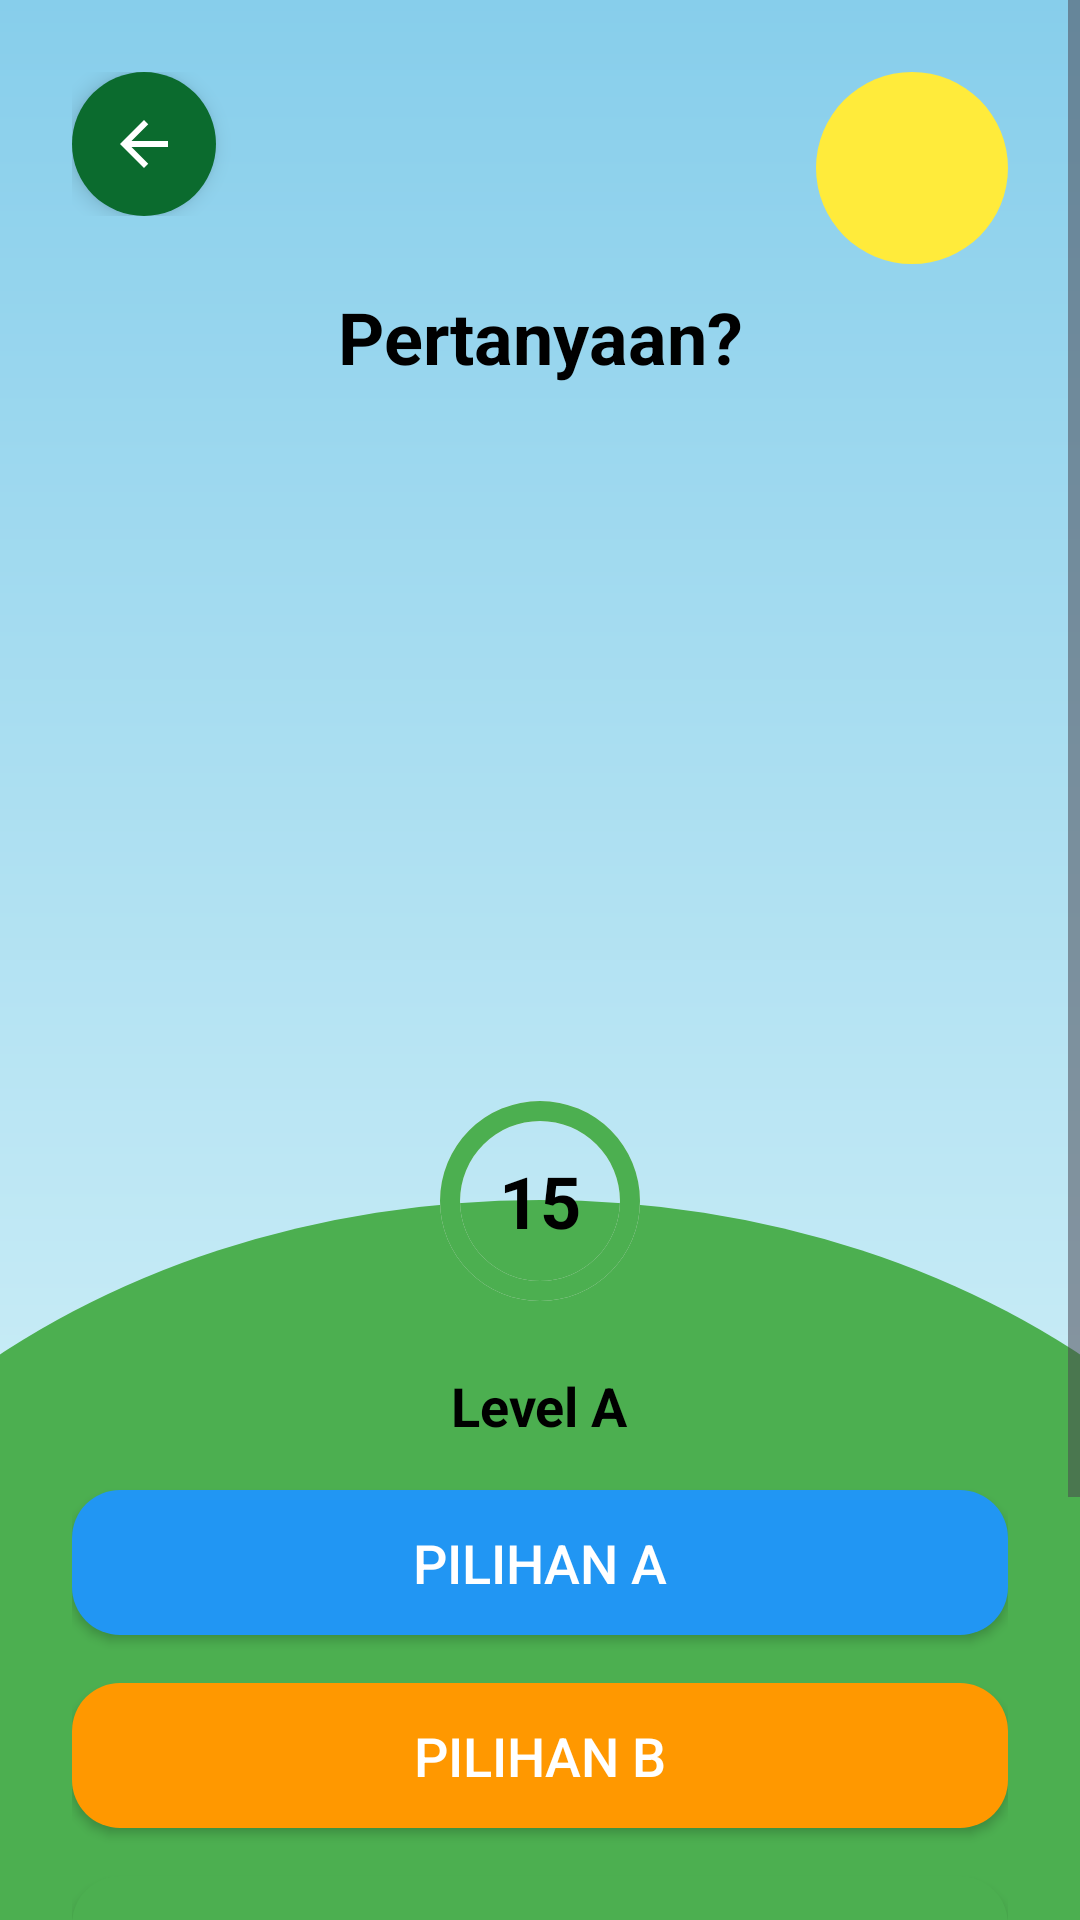

Icons on this 1080px×1920px Android screen, each with its box as rect(x1, y1, x2, y2):
Back: rect(72, 72, 216, 216)
